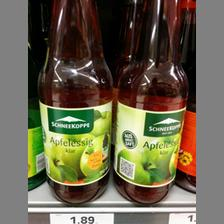Essig: (34, 0, 110, 204), (116, 0, 188, 206)
